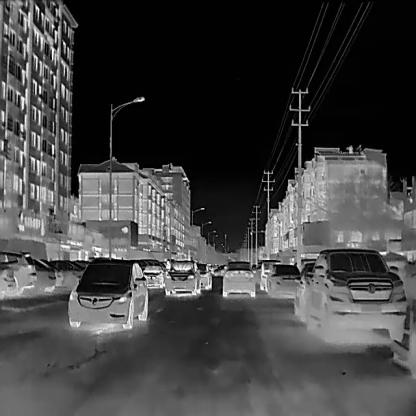car: (300, 248, 403, 340), (66, 257, 147, 327), (0, 250, 37, 298), (266, 263, 302, 298), (222, 259, 255, 296), (164, 261, 200, 294), (49, 260, 84, 289), (28, 254, 55, 291), (141, 263, 165, 288), (195, 262, 212, 288)
